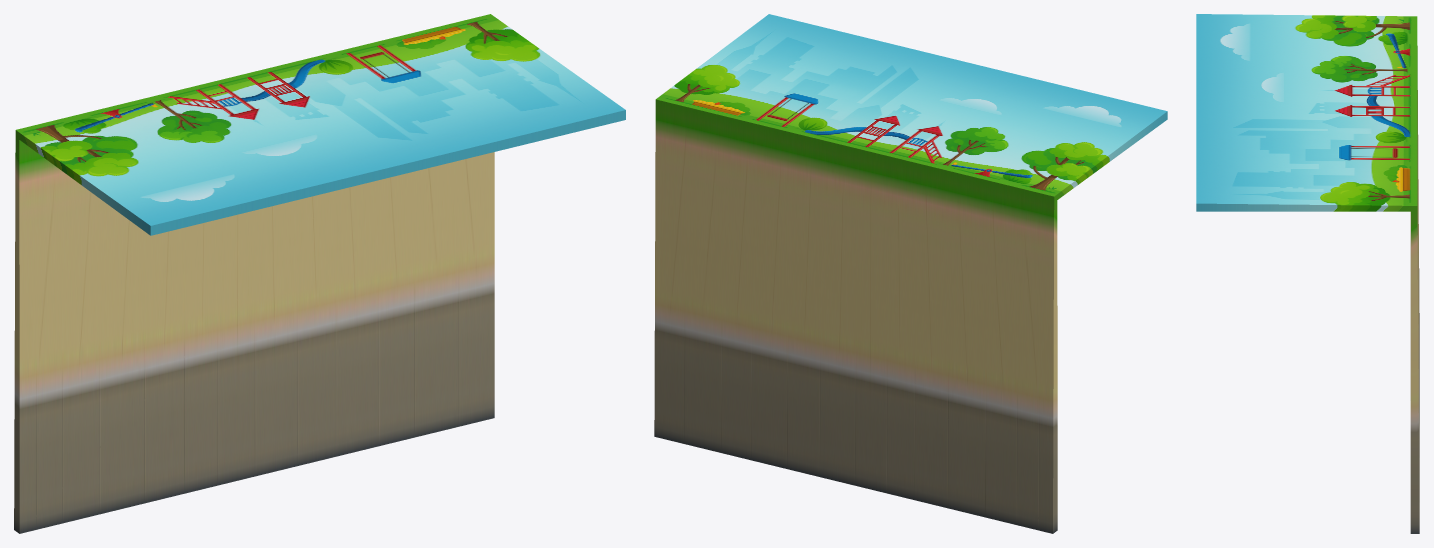
Rendered from _PoppiCorny_Bg.fbx.
3 views of the same model, side by side, from view 1: azimuth 30°, elevation 25°; view 2: azimuth 150°, elevation 25°; view 3: azimuth 270°, elevation 25° (orthographic). The views are drawn at different scales.
Parts seen in each view (by area): view 1: Backgr; view 2: Backgr; view 3: Backgr.
Part boxes in pixels (left/top/right/bottom): Backgr: left=14, top=14, right=625, bottom=533; Backgr: left=654, top=14, right=1167, bottom=533; Backgr: left=1196, top=14, right=1419, bottom=533.
Bounding box in the file's own units: 44.72 × 36.33 × 22.27.
1 material, 1 textured.
